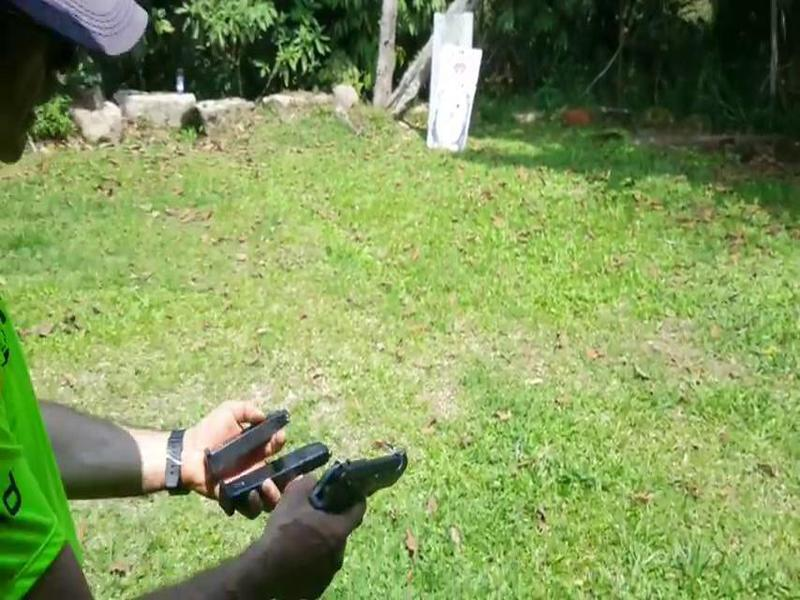Pistola: (308, 444, 417, 566)
